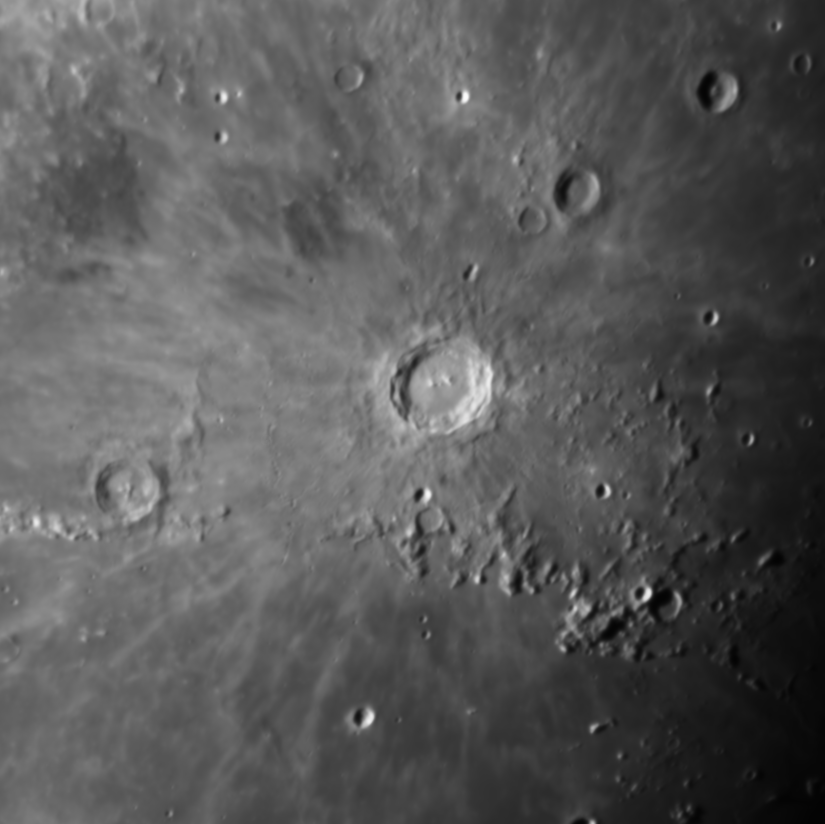crater: (346, 314, 534, 461), (277, 657, 436, 791), (46, 424, 179, 570), (674, 40, 766, 153), (541, 156, 614, 243), (186, 113, 263, 180), (314, 41, 384, 111), (683, 285, 741, 366), (187, 65, 253, 113), (438, 77, 489, 123)
